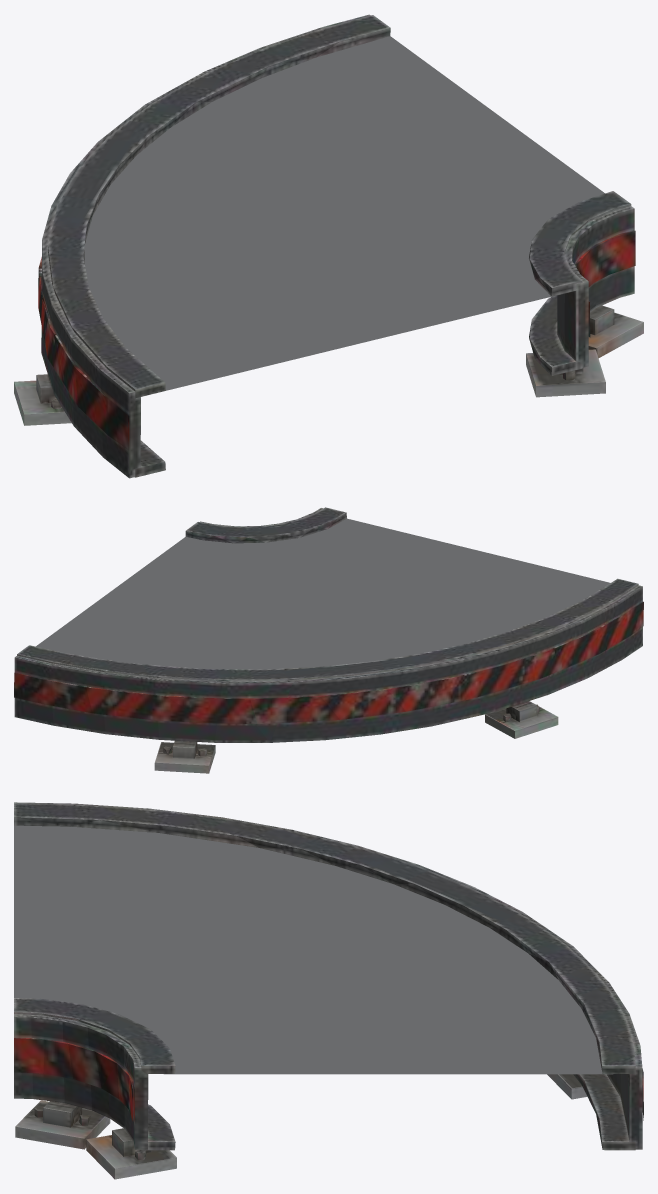
File: esteira_curva_dir_rapida.glb
3 renders of one model, top to bottom at view 1: azimuth 30°, elevation 25°; view 2: azimuth 150°, elevation 25°; view 3: azimuth 270°, elevation 25°, orthographic. The views are drawn at different scales.
Parts seen in each view (by area): view 1: esteira_curva_dir_rapida_corpo; view 2: esteira_curva_dir_rapida_corpo; view 3: esteira_curva_dir_rapida_corpo.
Part boxes in pixels (x1,y1,x2,y2): esteira_curva_dir_rapida_corpo: [14, 14, 643, 478]; esteira_curva_dir_rapida_corpo: [14, 507, 643, 773]; esteira_curva_dir_rapida_corpo: [14, 802, 643, 1179].
Size of the model in its own units: 0.841 by 0.168 by 0.841.
2 materials, 1 textured.
